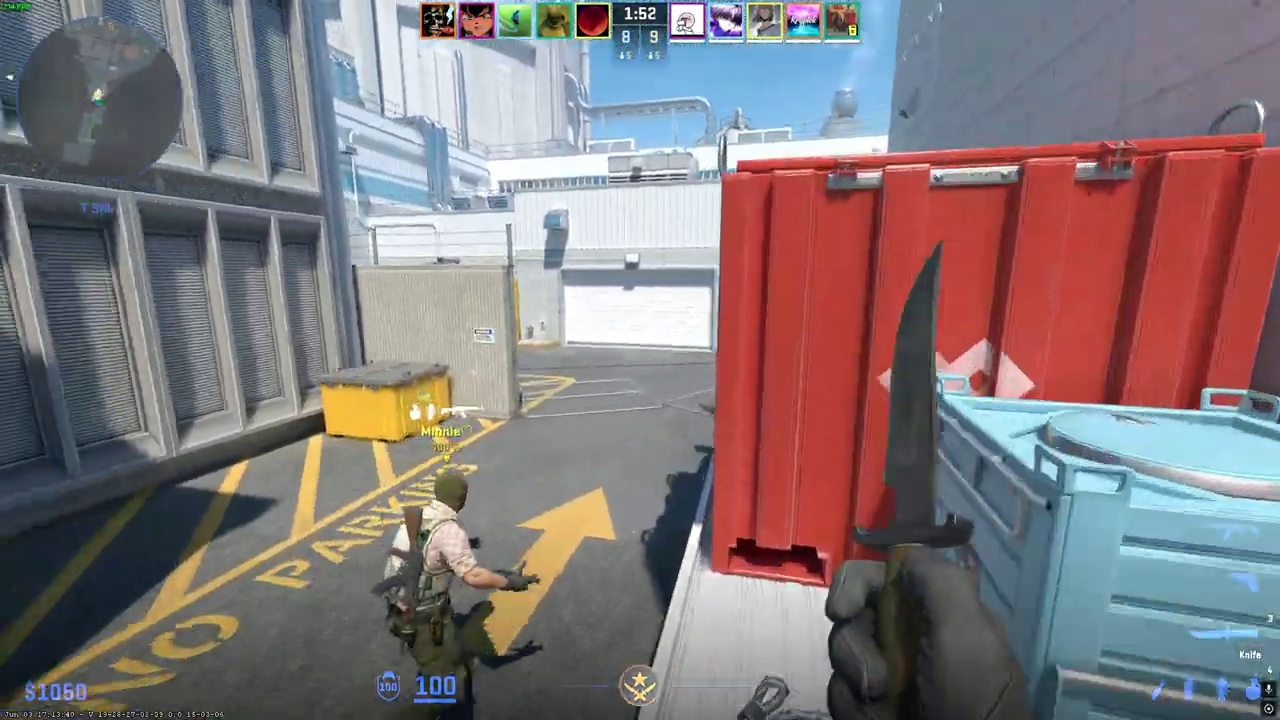Terrorist: (383, 471, 524, 719)
